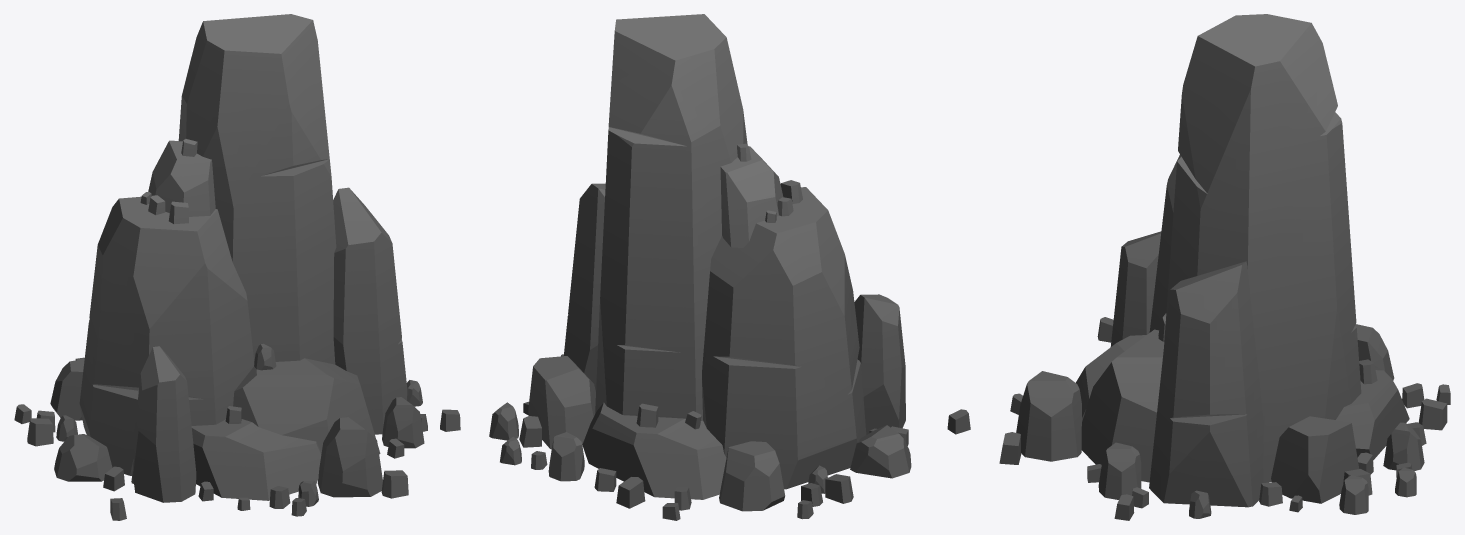
Rendered from BigRock_04.fbx.
3 views of the same model, side by side, from view 1: azimuth 30°, elevation 25°; view 2: azimuth 150°, elevation 25°; view 3: azimuth 270°, elevation 25° (orthographic). The views are drawn at different scales.
Visible parts, largest first — view 1: big_rock_04; view 2: big_rock_04; view 3: big_rock_04.
Boxes of the visible parts, bbox=[...] form: big_rock_04: bbox=[14, 14, 460, 520]; big_rock_04: bbox=[489, 14, 970, 520]; big_rock_04: bbox=[999, 14, 1450, 520].
Bounding box in the file's own units: 425 × 435 × 433.
1 material, 1 textured.
